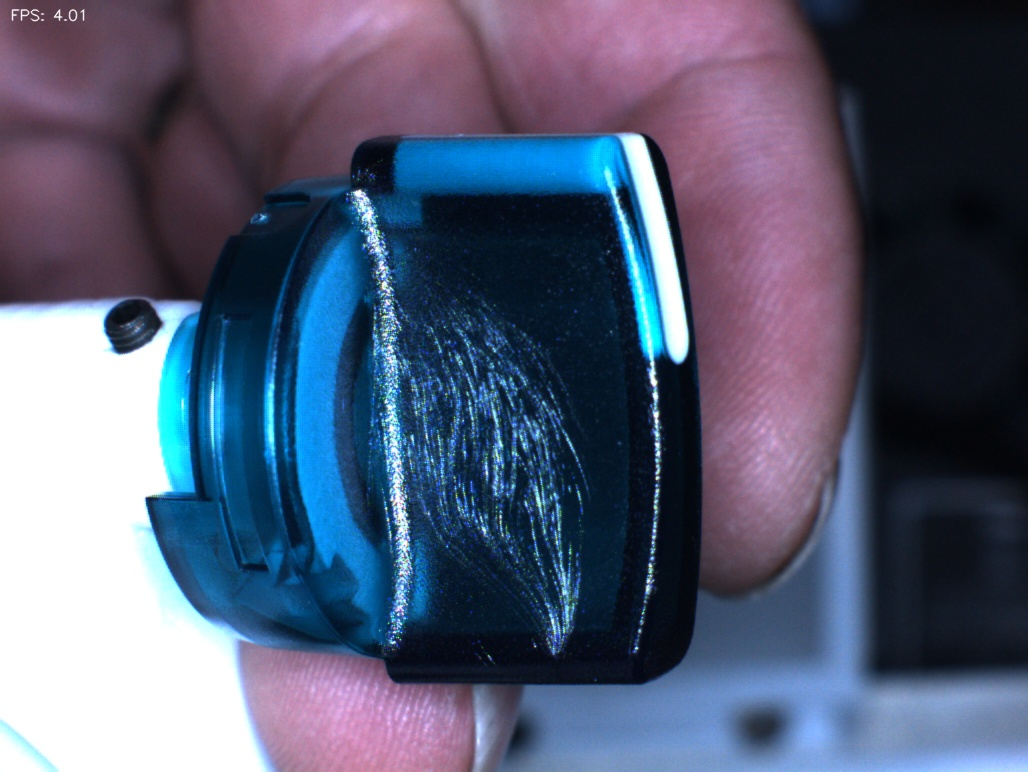Givrage: (402, 276, 608, 667)
